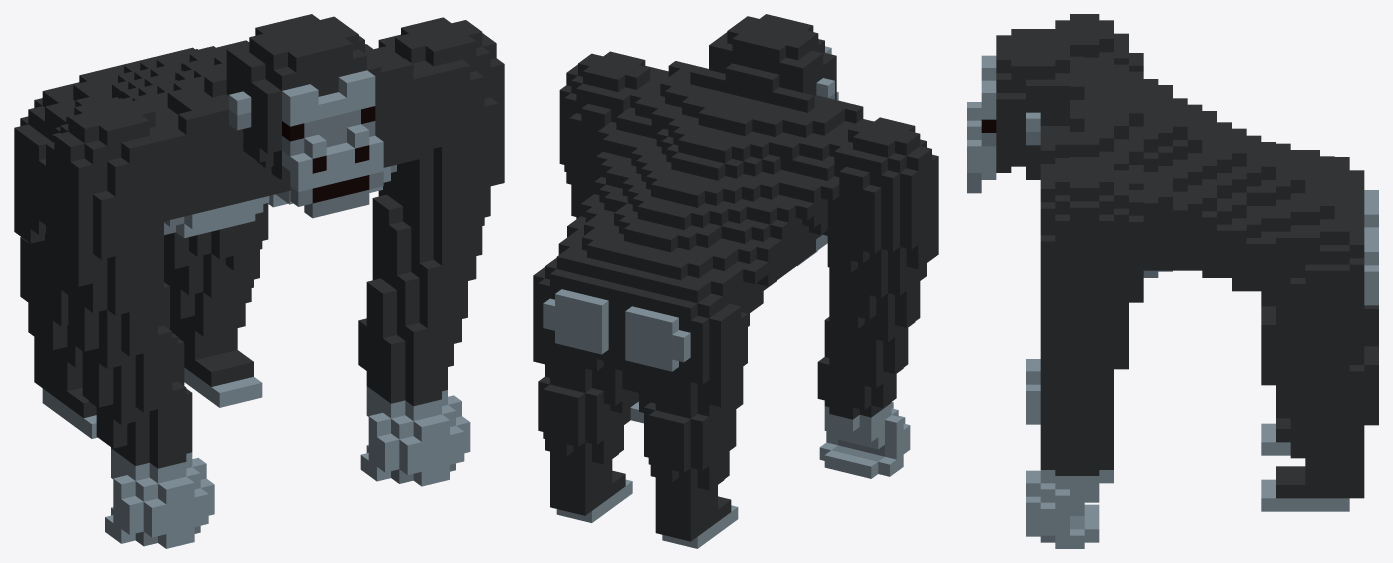
File: 5Card_1Lv.obj
3 renders of one model, left to right at view 1: azimuth 30°, elevation 25°; view 2: azimuth 150°, elevation 25°; view 3: azimuth 270°, elevation 25°, orthographic. The views are drawn at different scales.
Bounding box in the file's own units: 3 × 3.2 × 2.8.
